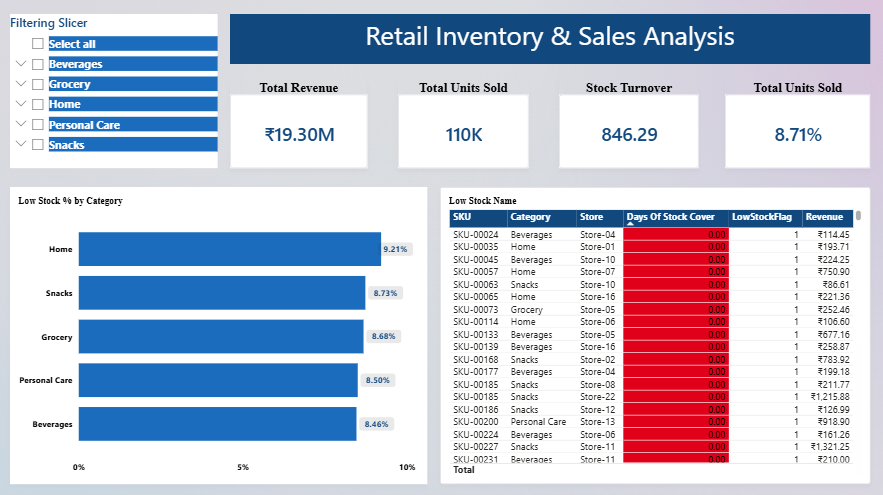

Layout of this report page (visuals, bound fields, positions):
{"tool":"powerbi","page":{"name":"Inventory Health (Executive View)","canvas":[1280,720],"ordinal":0},"visuals":[{"type":"cardVisual","title":"Total Revenue","fields":{"Data":["inventory_sales_cleaned.Total Revenue"]},"box":[337.6,117.6,198.2,127.7],"z":0},{"type":"cardVisual","title":"Total Units Sold","fields":{"Data":["inventory_sales_cleaned.Total Units Sold"]},"box":[579.5,117.6,188.1,127.7],"z":1000},{"type":"cardVisual","title":"Stock Turnover","fields":{"Data":["inventory_sales_cleaned.Stock Turnover"]},"box":[811.3,117.6,201.6,127.7],"z":2000},{"type":"cardVisual","title":"Total Units Sold","fields":{"Data":["inventory_sales_cleaned.Low Stock %"]},"box":[1049.9,117.6,210,127.7],"z":3000},{"type":"clusteredBarChart","fields":{"Y":["inventory_sales_cleaned.Low Stock %"],"Category":["inventory_sales_cleaned.Category"]},"box":[20.2,272.1,601.4,428.3],"z":4000},{"type":"textbox","box":[337.6,23.5,922.2,72.2],"z":5000},{"type":"tableEx","title":"Low Stock Name","fields":{"Values":["inventory_sales_cleaned.SKU","inventory_sales_cleaned.Category","inventory_sales_cleaned.Store","inventory_sales_cleaned.DaysOfCover","inventory_sales_cleaned.LowStockFlag","inventory_sales_cleaned.Revenue"]},"box":[640,272.1,619.8,428.3],"z":6000},{"type":"slicer","title":"Filtering Slicer","fields":{"Values":["inventory_sales_cleaned.Category","inventory_sales_cleaned.Store","Date.MonthYear"]},"box":[20.2,23.5,299,221.7],"z":6001}]}

Visuals, with their boxes in screenshot pixels (x1, y1, x2, y2), scaled from the page's 1280x720 canvas onto the 883x495 screenshot:
"Total Revenue" cardVisual: detection(233, 81, 370, 169)
"Total Units Sold" cardVisual: detection(400, 81, 530, 169)
"Stock Turnover" cardVisual: detection(560, 81, 699, 169)
"Total Units Sold" cardVisual: detection(724, 81, 869, 169)
clusteredBarChart - inventory_sales_cleaned.Low Stock % x inventory_sales_cleaned.Category: detection(14, 187, 429, 482)
textbox: detection(233, 16, 869, 66)
"Low Stock Name" tableEx: detection(442, 187, 869, 482)
"Filtering Slicer" slicer: detection(14, 16, 220, 169)
